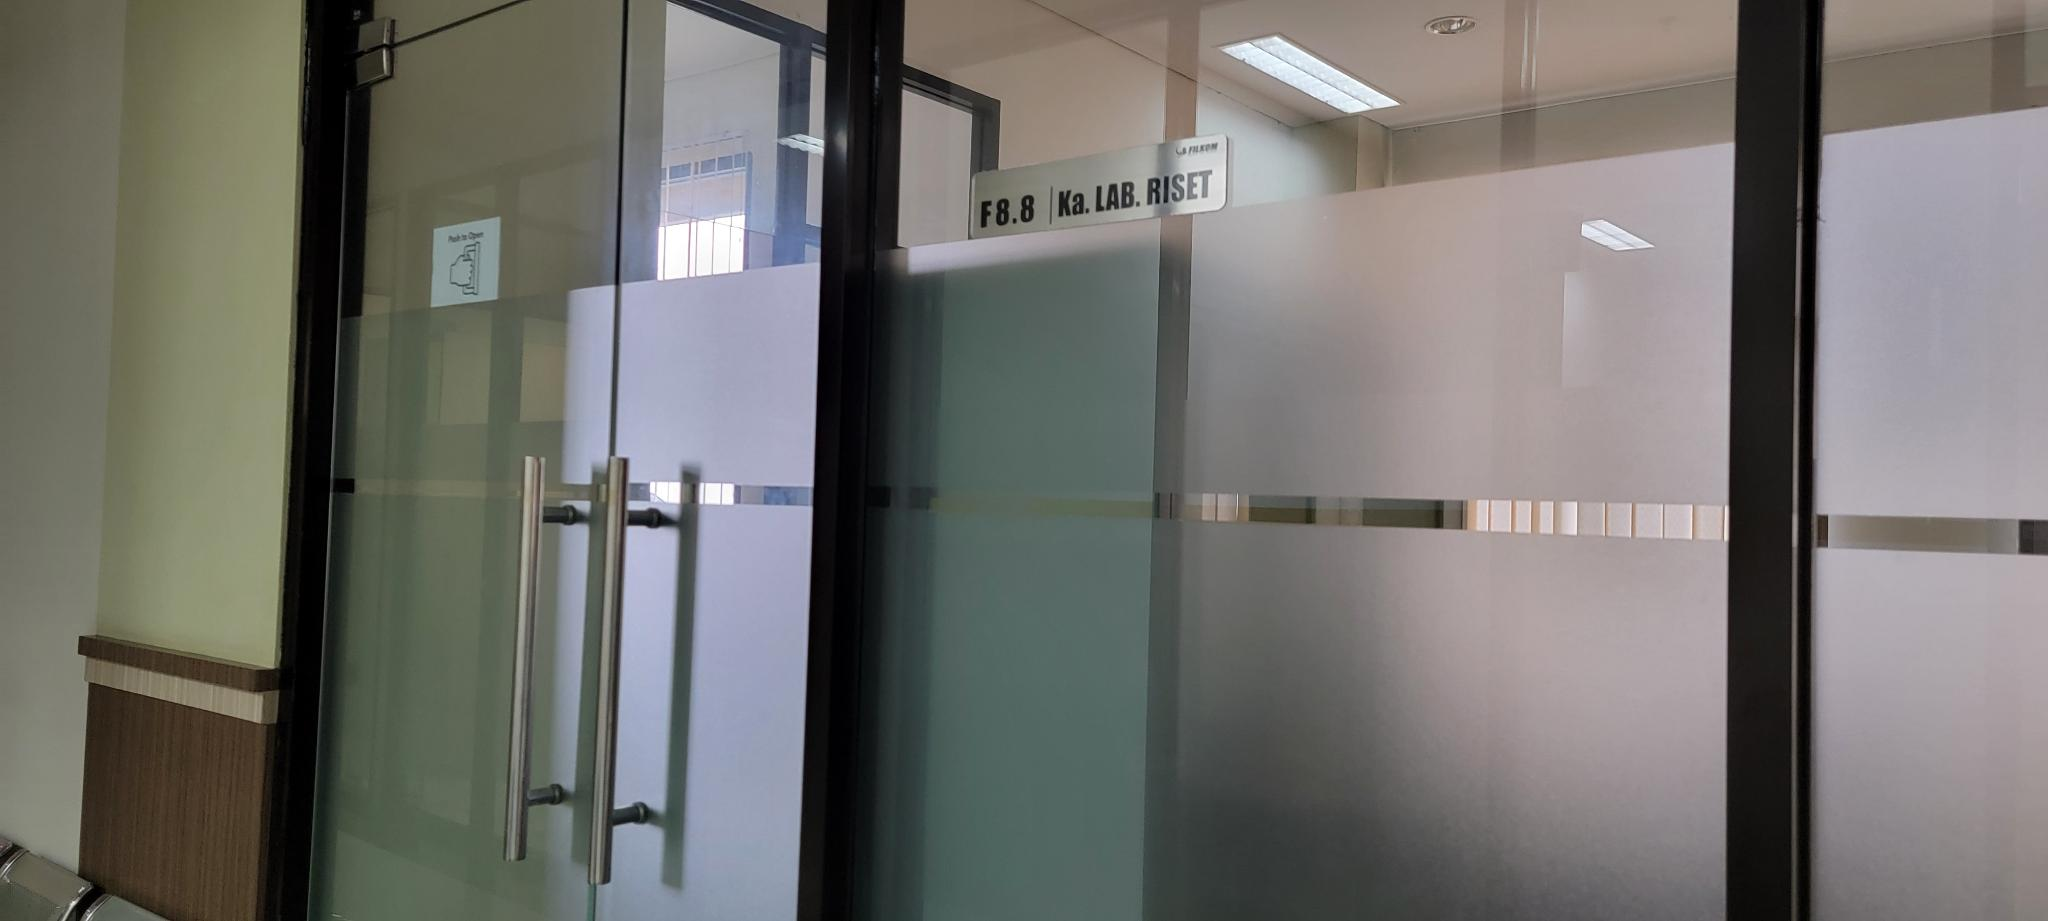plate: (969, 132, 1229, 242)
